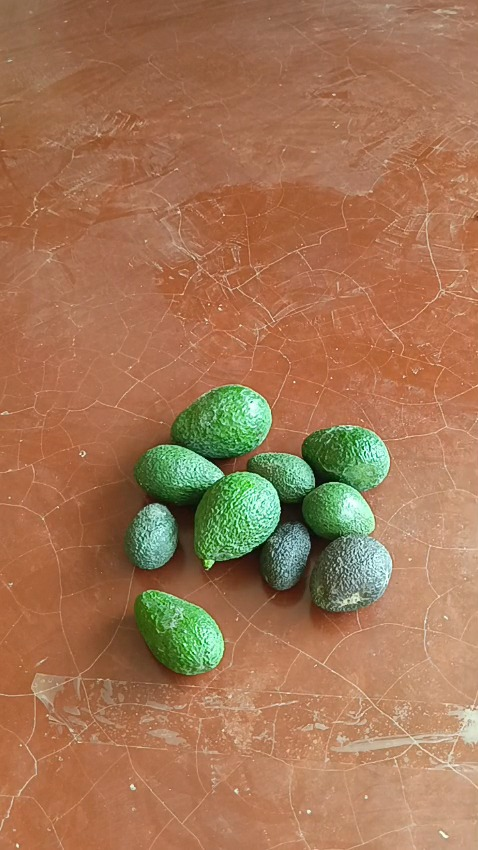Primera: (195, 472, 280, 561), (171, 385, 272, 459), (301, 425, 390, 492)
Segunda: (133, 589, 224, 674), (308, 534, 392, 612), (134, 445, 225, 506)
Tercera: (301, 481, 376, 540), (122, 501, 180, 570), (258, 518, 312, 591), (247, 452, 315, 503)
